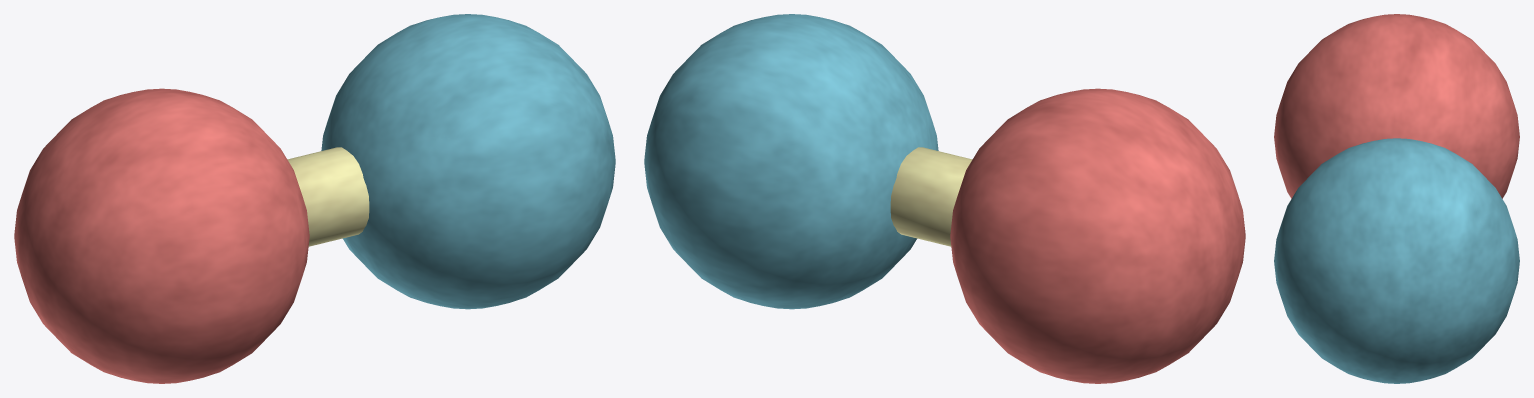
Rendered from pion.glb.
The picture shows the model from 3 angles, left to right: view 1: azimuth 30°, elevation 25°; view 2: azimuth 150°, elevation 25°; view 3: azimuth 270°, elevation 25°; orthographic projection. The views are drawn at different scales.
Visible parts, largest first — view 1: pion_textured_mesh; view 2: pion_textured_mesh; view 3: pion_textured_mesh.
Part boxes in pixels (x1,y1,x2,y2): pion_textured_mesh: (14, 14, 615, 383); pion_textured_mesh: (644, 14, 1245, 383); pion_textured_mesh: (1274, 14, 1519, 383).
Size of the model in its own units: 2.02 by 0.92 by 0.92.
1 material, 1 textured.
